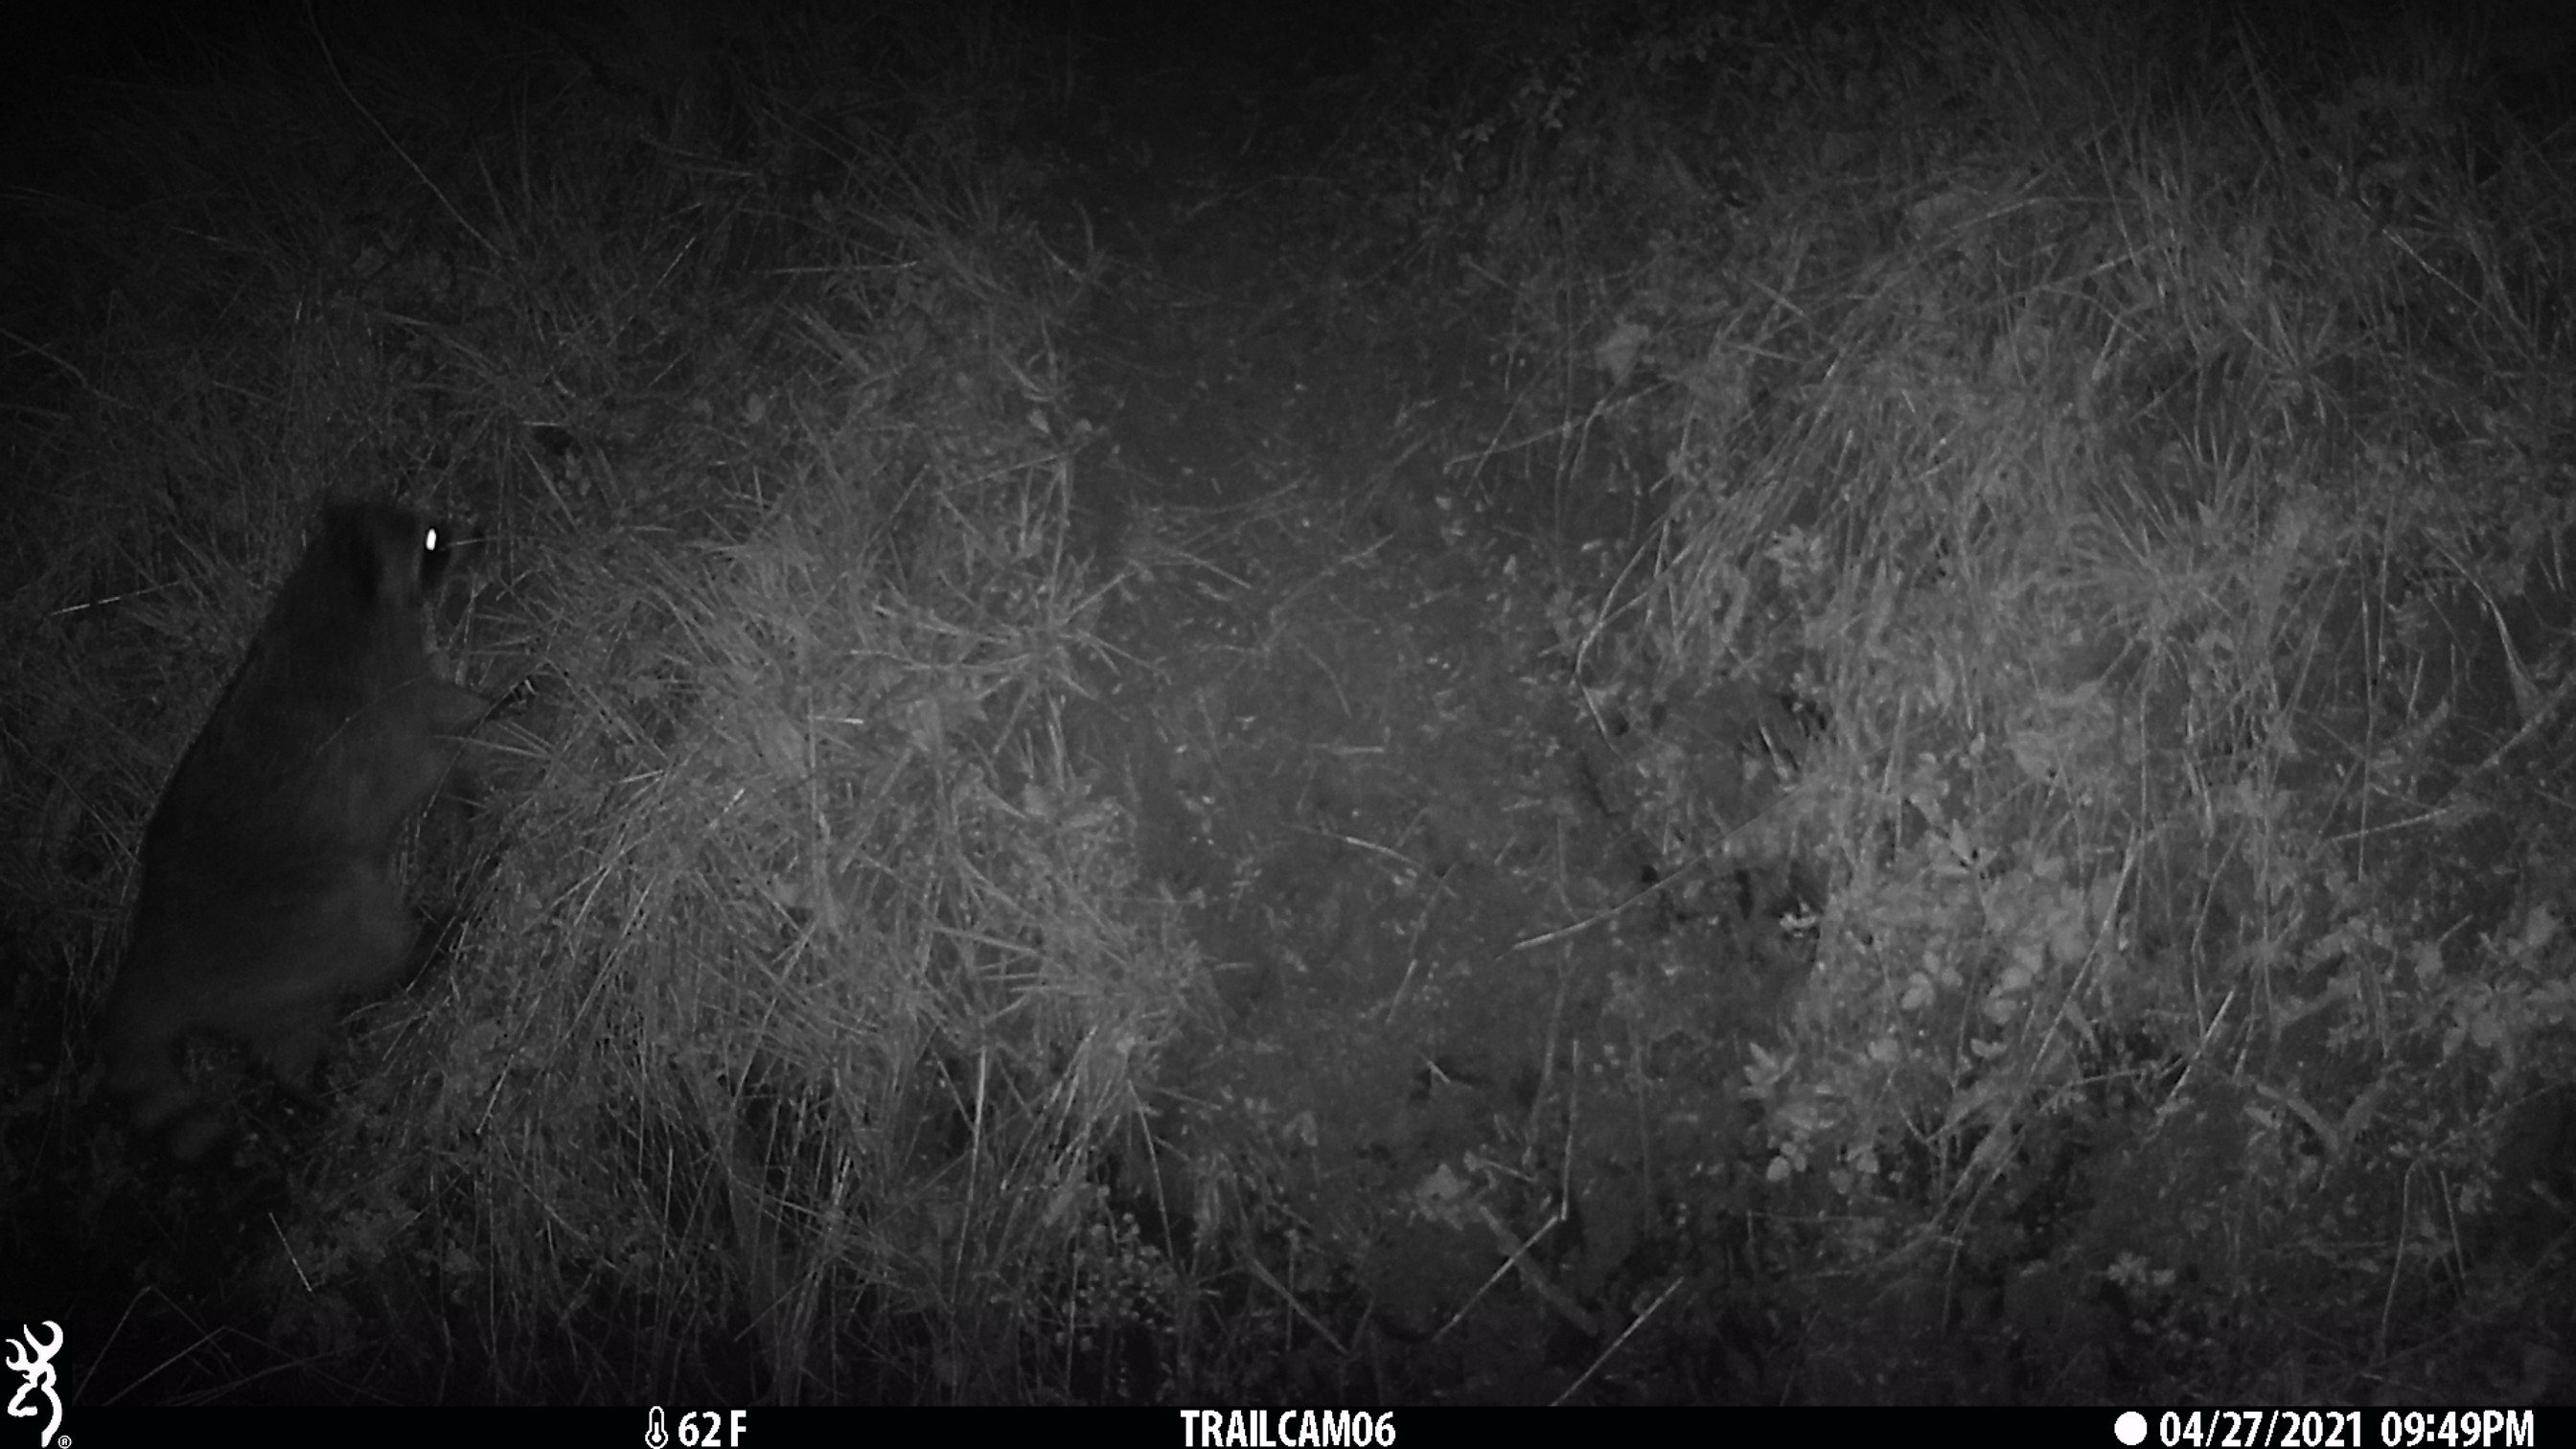Raccoon: (76, 478, 531, 1178)
